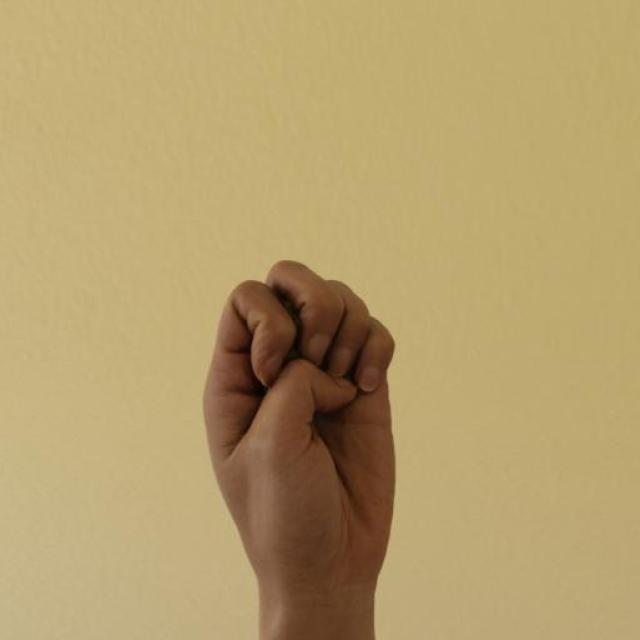E: (198, 257, 400, 582)
